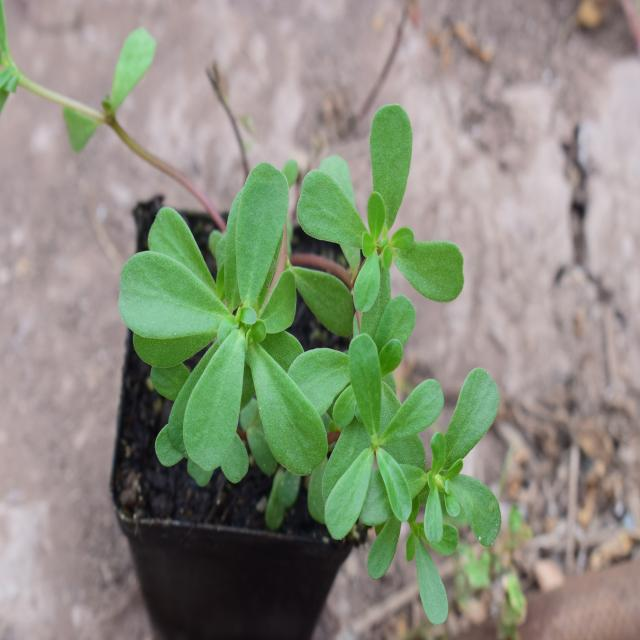purslane: (119, 111, 508, 605)
